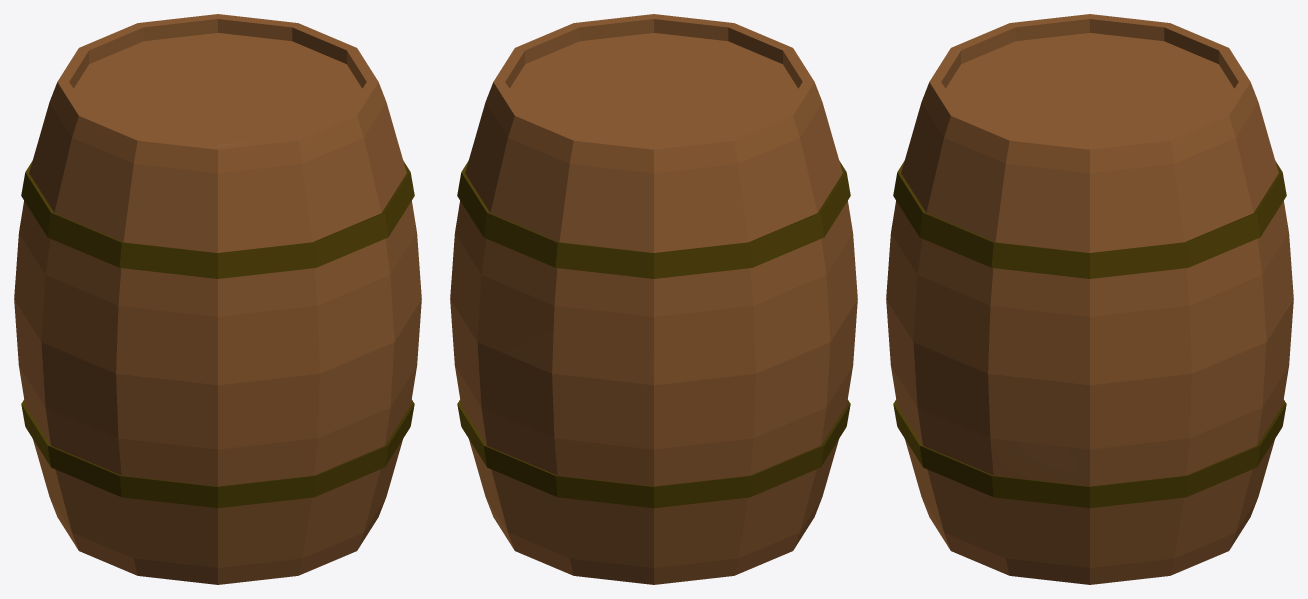
Rendered from barril.fbx.
3 renders of one model, left to right at view 1: azimuth 30°, elevation 25°; view 2: azimuth 150°, elevation 25°; view 3: azimuth 270°, elevation 25°, orthographic.
Visible parts, largest first — view 1: Cylinder.040; view 2: Cylinder.040; view 3: Cylinder.040.
Part boxes in pixels (left/top/right/bottom): Cylinder.040: left=14, top=14, right=421, bottom=584; Cylinder.040: left=450, top=14, right=857, bottom=584; Cylinder.040: left=886, top=14, right=1293, bottom=584.
Size of the model in its own units: 104 by 123 by 104.
